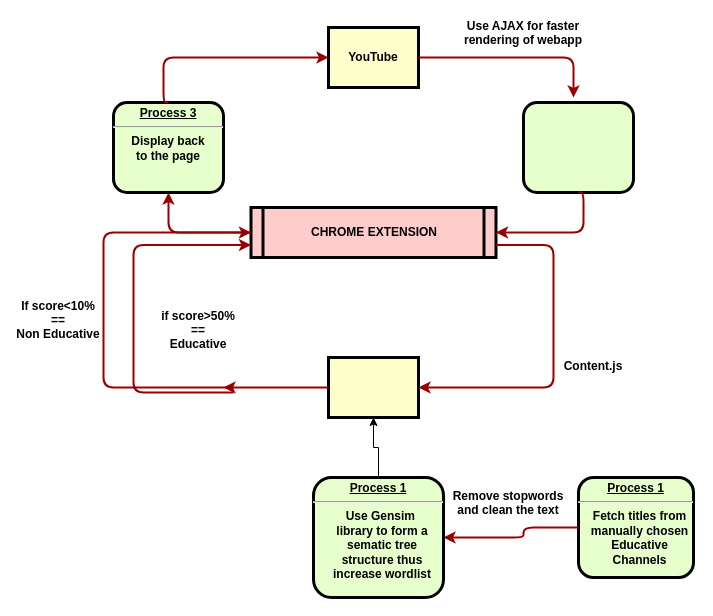
The diagram is 713 pixels wide and 616 high, and some of its shapes have lost their labels. Here are the shapes that lost their labels. From the top down, the centre of each, then its label:
At point (578, 147): "Process 2 Search something".
At point (373, 387): "WordList.txt".
